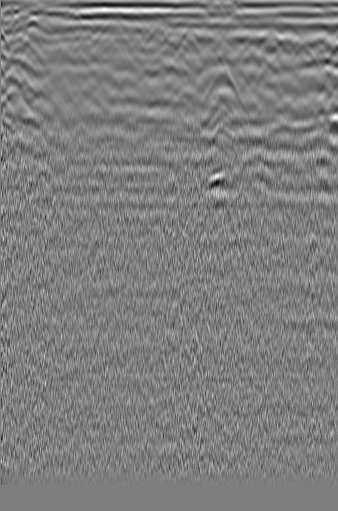가스: (202, 164, 232, 195)
상수: (3, 34, 48, 65)
우수: (150, 33, 180, 59)
